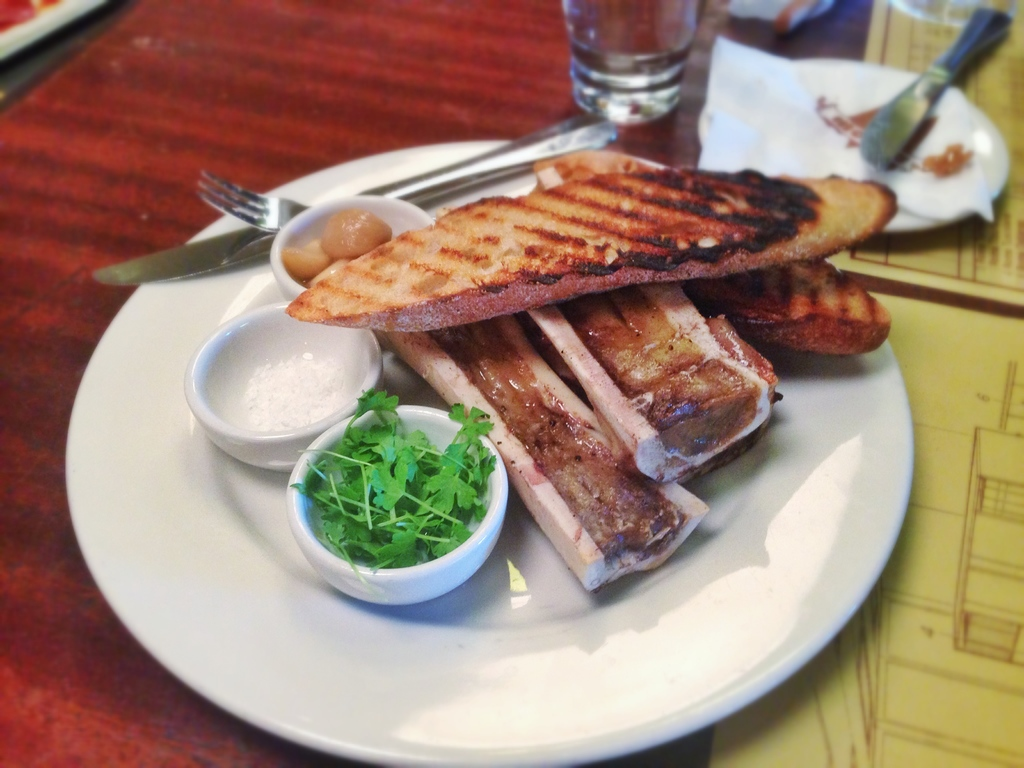sandwich: (285, 173, 892, 337), (532, 147, 894, 359)
